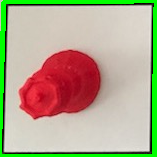Red Queen: (15, 46, 104, 128)
